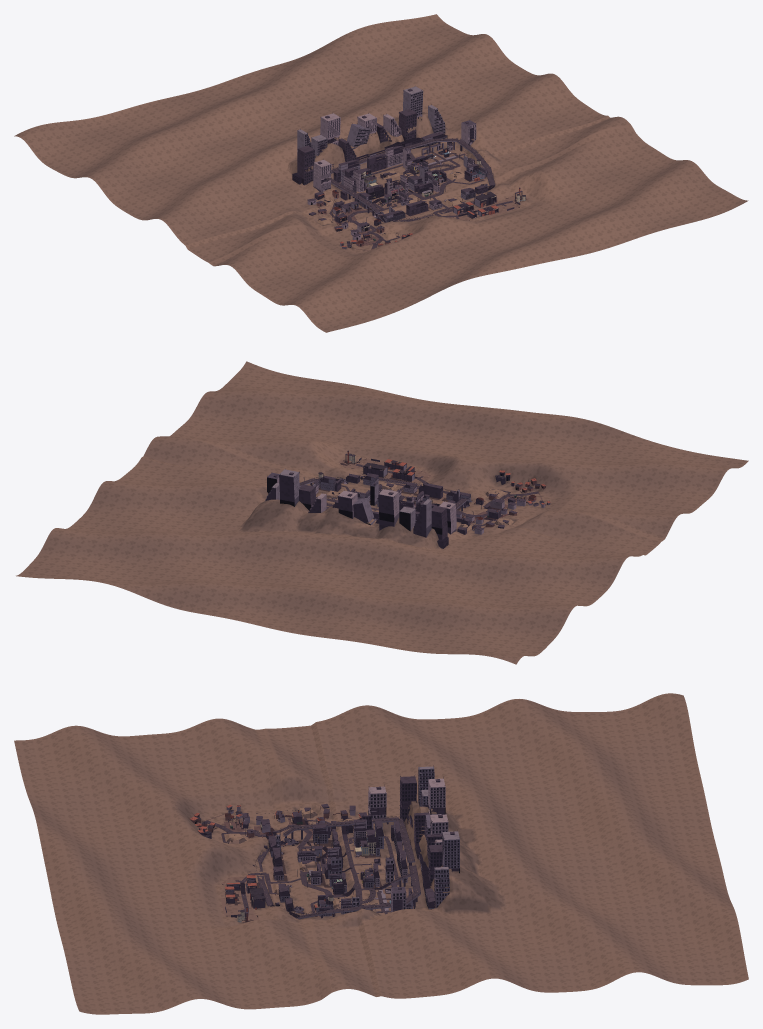
The model's file is city.glb.
3 views of the same model, one above another, from view 1: azimuth 30°, elevation 25°; view 2: azimuth 150°, elevation 25°; view 3: azimuth 270°, elevation 25° (orthographic). The views are drawn at different scales.
Visible parts, largest first — view 1: Desert_Sand_Sea, street_fabric_centre, Connected_Street_Courts, infrastructure_ring, City_Streets, Suburban_Verge_Fabric, Buried_Barrier_Podium, sky_west_rear, sky_central_peak; view 2: Desert_Sand_Sea, street_fabric_centre, Connected_Street_Courts, Suburban_Verge_Fabric, sky_central_peak, sky_east_peak, City_Streets, Buried_Outer_Dwellings, sky_west_peak; view 3: Desert_Sand_Sea, street_fabric_centre, City_Streets, infrastructure_ring, Connected_Street_Courts, Suburban_Verge_Fabric, sky_east_peak, sky_central_peak, sky_west_rear, sky_west_flank, Buried_Barrier_Podium, sky_east_rear.
Part boxes in pixels (left/top/right/bottom): Desert_Sand_Sea: left=14, top=14, right=748, bottom=332; street_fabric_centre: left=333, top=146, right=475, bottom=222; Connected_Street_Courts: left=334, top=150, right=528, bottom=245; infrastructure_ring: left=325, top=135, right=495, bottom=222; City_Streets: left=329, top=153, right=513, bottom=249; Suburban_Verge_Fabric: left=307, top=190, right=384, bottom=246; Buried_Barrier_Podium: left=292, top=132, right=446, bottom=184; sky_west_rear: left=297, top=145, right=314, bottom=185; sky_central_peak: left=320, top=113, right=340, bottom=145; Desert_Sand_Sea: left=16, top=361, right=748, bottom=664; street_fabric_centre: left=350, top=473, right=470, bottom=520; Connected_Street_Courts: left=318, top=458, right=528, bottom=524; Suburban_Verge_Fabric: left=457, top=493, right=536, bottom=534; sky_central_peak: left=378, top=489, right=399, bottom=530; sky_east_peak: left=279, top=469, right=299, bottom=506; City_Streets: left=316, top=464, right=538, bottom=525; Buried_Outer_Dwellings: left=495, top=470, right=550, bottom=507; sky_west_peak: left=413, top=499, right=431, bottom=537; Desert_Sand_Sea: left=14, top=693, right=748, bottom=1014; street_fabric_centre: left=268, top=819, right=407, bottom=902; City_Streets: left=205, top=818, right=399, bottom=916; infrastructure_ring: left=253, top=814, right=420, bottom=919; Connected_Street_Courts: left=220, top=818, right=413, bottom=923; Suburban_Verge_Fabric: left=225, top=803, right=366, bottom=839; sky_east_peak: left=442, top=830, right=459, bottom=873; sky_central_peak: left=428, top=777, right=445, bottom=814; sky_west_rear: left=399, top=775, right=416, bottom=821; sky_west_flank: left=368, top=785, right=386, bottom=819; Buried_Barrier_Podium: left=406, top=815, right=435, bottom=909; sky_east_rear: left=434, top=866, right=449, bottom=907.
Bounding box in the file's own units: 209 × 24.08 × 213.
2 materials, 2 textured.
